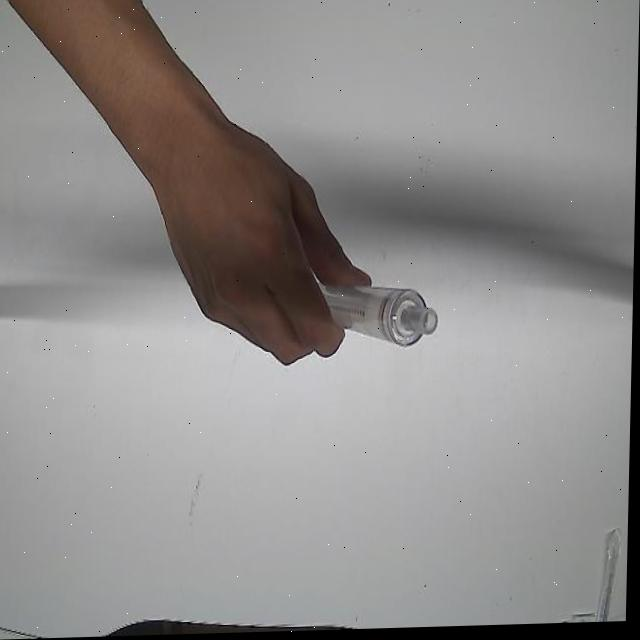Serelogical Pipet 50 mL: (298, 271, 441, 361)
